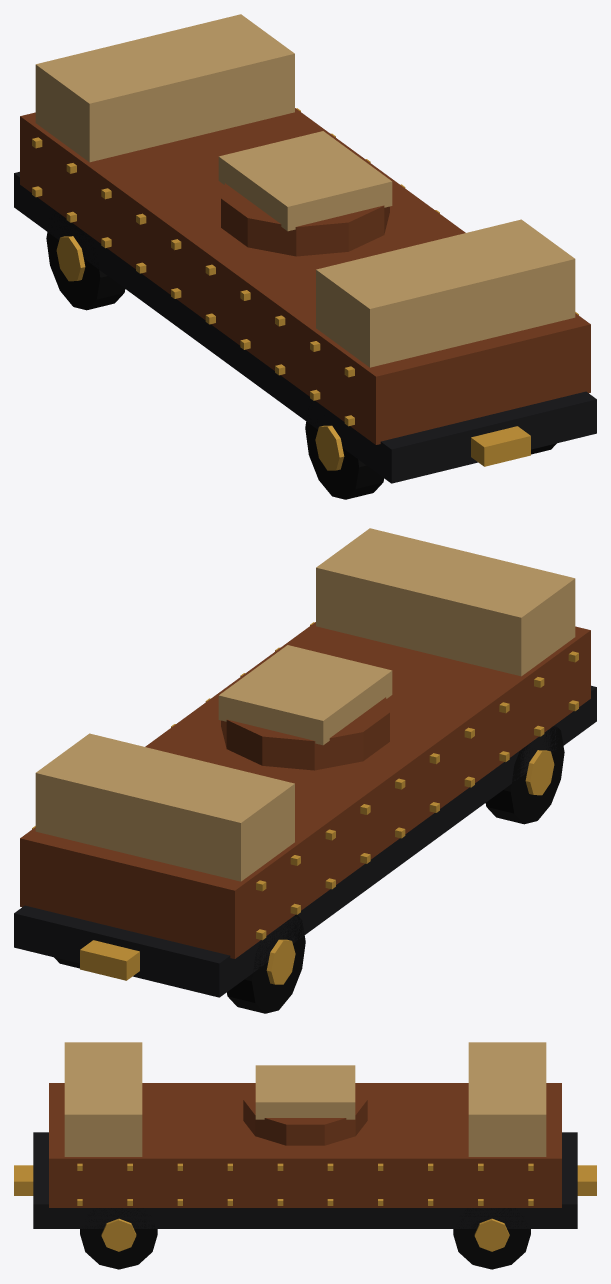
The model's file is carriage_artillery.obj.
3 views of the same model, one above another, from view 1: azimuth 30°, elevation 25°; view 2: azimuth 150°, elevation 25°; view 3: azimuth 270°, elevation 25° (orthographic). The views are drawn at different scales.
Visible parts, largest first — view 1: chassis, turret_base, wheel_rl, wheel_fl; view 2: chassis, turret_base, wheel_rl, wheel_fl; view 3: chassis, turret_base, wheel_rr, wheel_fr.
Boxes of the visible parts, x1,y1,x2,y2 form: chassis: (14, 14, 596, 483); turret_base: (218, 131, 392, 256); wheel_rl: (46, 213, 125, 310); wheel_fl: (305, 409, 383, 499); chassis: (14, 528, 596, 997); turret_base: (218, 645, 392, 770); wheel_rl: (227, 914, 305, 1013); wheel_fl: (485, 725, 564, 824); chassis: (14, 1042, 596, 1228); turret_base: (243, 1065, 367, 1145); wheel_rr: (453, 1208, 530, 1269); wheel_fr: (80, 1208, 157, 1269).
Size of the model in its own units: 2.47 by 2.2 by 7.5.
